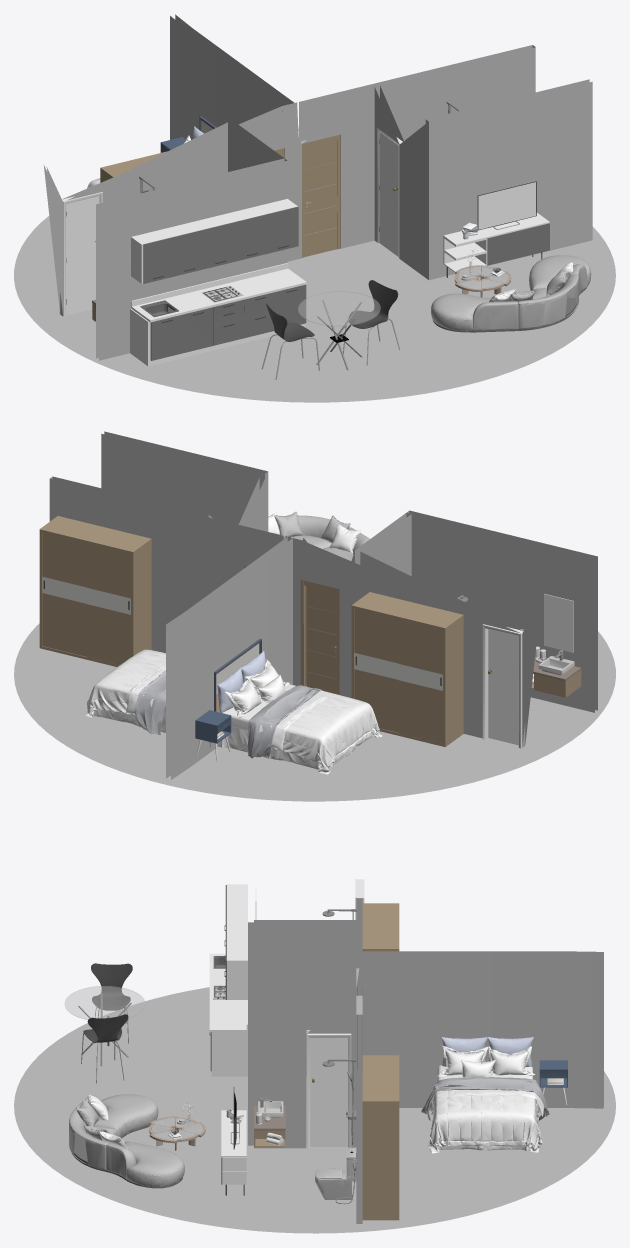
The model's file is symmetry.glb.
The picture shows the model from 3 angles, top to bottom: view 1: azimuth 30°, elevation 25°; view 2: azimuth 150°, elevation 25°; view 3: azimuth 270°, elevation 25°; orthographic projection.
Parts seen in each view (by area): view 1: SKP Vertex Colors, Floor, Wood_Cherry_Original, Material~1, [Granite Brown]1, GlassClear, 10m, JianE_Mtl_20218189343924224__Wood; view 2: SKP Vertex Colors, Floor, 淘宝-设计师Vicky的店-布纹-8, Wood_Cherry_Original, FF708172-EE1C-49FB-ADE1-4F9D51396EDC, 10m, [Mirror 01], download, 0-1可变布_4-dy_0-2-灰桔, 淘宝-设计师Vicky的店-布纹-39; view 3: SKP Vertex Colors, Floor, 淘宝-设计师Vicky的店-布纹-8, Material~1, Wood_Cherry_Original, GlassClear, [Granite Brown]1, FF708172-EE1C-49FB-ADE1-4F9D51396EDC, download, JianE_Mtl_20218189343924224__Wood.
Boxes of the visible parts, x1,y1,x2,y2 form: SKP Vertex Colors: [43, 14, 592, 379]; Floor: [14, 216, 615, 402]; Wood_Cherry_Original: [59, 127, 404, 316]; Material~1: [130, 199, 549, 366]; [Granite Brown]1: [131, 263, 306, 322]; GlassClear: [298, 291, 380, 326]; 10m: [462, 182, 535, 237]; JianE_Mtl_20218189343924224__Wood: [454, 265, 511, 297]; SKP Vertex Colors: [39, 431, 597, 779]; Floor: [14, 623, 615, 801]; 淘宝-设计师Vicky的店-布纹-8: [85, 649, 382, 774]; Wood_Cherry_Original: [482, 624, 525, 748]; FF708172-EE1C-49FB-ADE1-4F9D51396EDC: [134, 670, 322, 758]; 10m: [42, 576, 442, 690]; [Mirror 01]: [544, 594, 573, 652]; download: [217, 651, 265, 712]; 0-1可变布_4-dy_0-2-灰桔: [268, 512, 361, 553]; 淘宝-设计师Vicky的店-布纹-39: [216, 643, 259, 694]; SKP Vertex Colors: [69, 885, 603, 1223]; Floor: [14, 987, 615, 1233]; 淘宝-设计师Vicky的店-布纹-8: [428, 1046, 544, 1153]; Material~1: [211, 884, 247, 1184]; Wood_Cherry_Original: [306, 878, 364, 1149]; GlassClear: [64, 986, 145, 1019]; [Granite Brown]1: [209, 953, 247, 1031]; FF708172-EE1C-49FB-ADE1-4F9D51396EDC: [421, 1077, 549, 1120]; download: [441, 1037, 533, 1066]; JianE_Mtl_20218189343924224__Wood: [149, 1116, 205, 1150].
Bounding box in the file's own units: 10 × 2.92 × 10.
